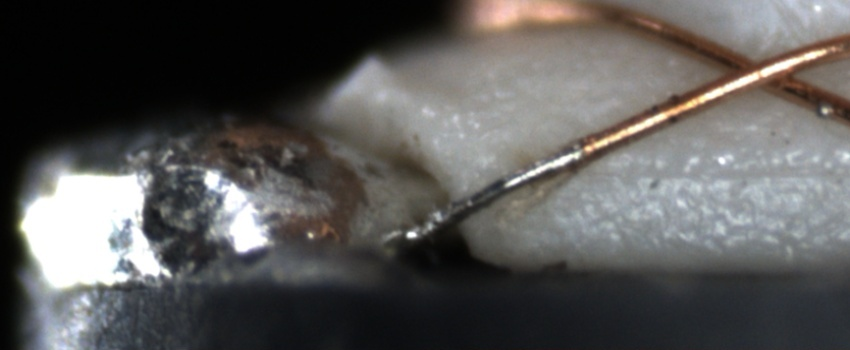CL: (695, 38, 823, 101)
DL: (571, 140, 850, 204)
TS: (407, 147, 583, 240)
